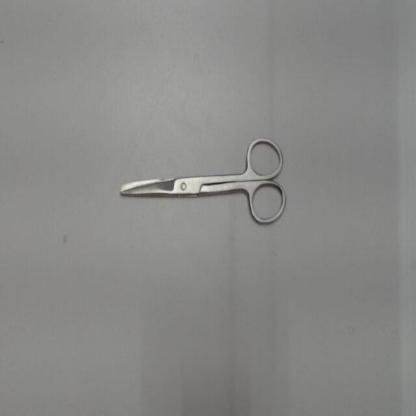Dressing Scissors: (106, 123, 298, 235)
